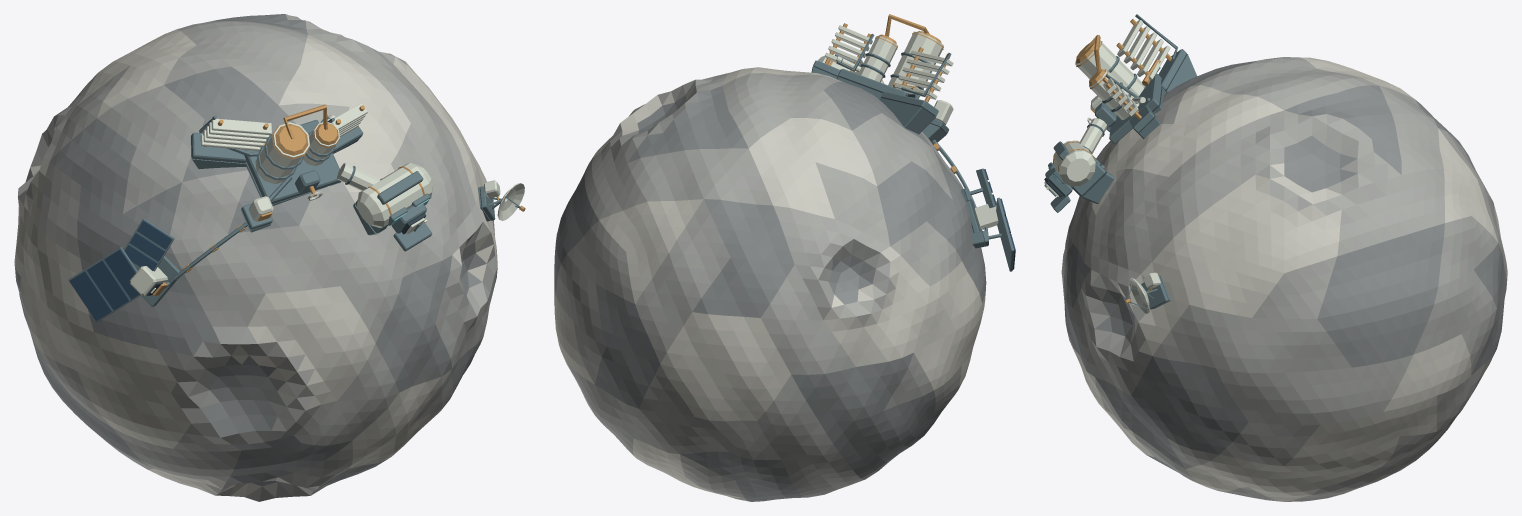
File: Moon.glb
The picture shows the model from 3 angles, left to right: view 1: azimuth 30°, elevation 25°; view 2: azimuth 150°, elevation 25°; view 3: azimuth 270°, elevation 25°; orthographic projection. The views are drawn at different scales.
Parts seen in each view (by area): view 1: S6_Moon • modeled surfaces; view 2: S6_Moon • modeled surfaces; view 3: S6_Moon • modeled surfaces.
Part boxes in pixels (box(x1,y1,x2,y2)): S6_Moon • modeled surfaces: box(14, 14, 525, 501); S6_Moon • modeled surfaces: box(554, 14, 1015, 501); S6_Moon • modeled surfaces: box(1044, 14, 1507, 501).
Size of the model in its own units: 1.73 by 1.71 by 1.72.
